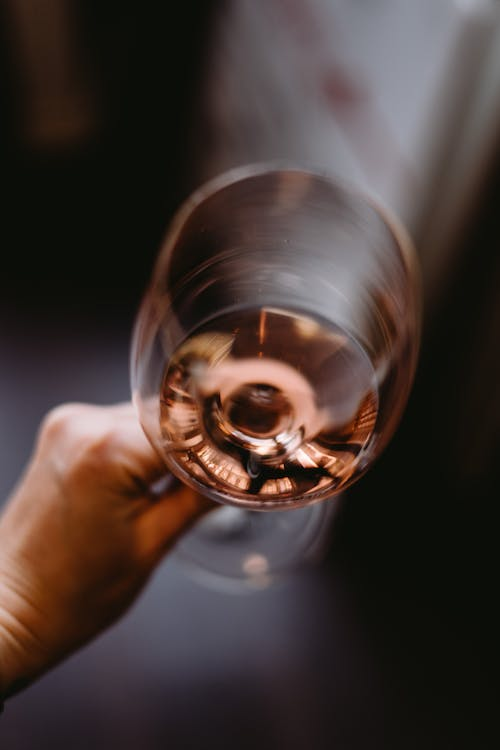alcohol: (126, 160, 422, 597)
